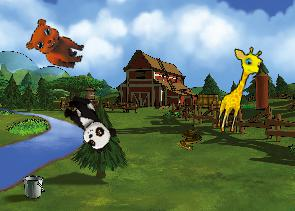bear: (23, 16, 90, 71)
giraffe: (214, 43, 265, 137)
panda: (56, 90, 120, 155)
